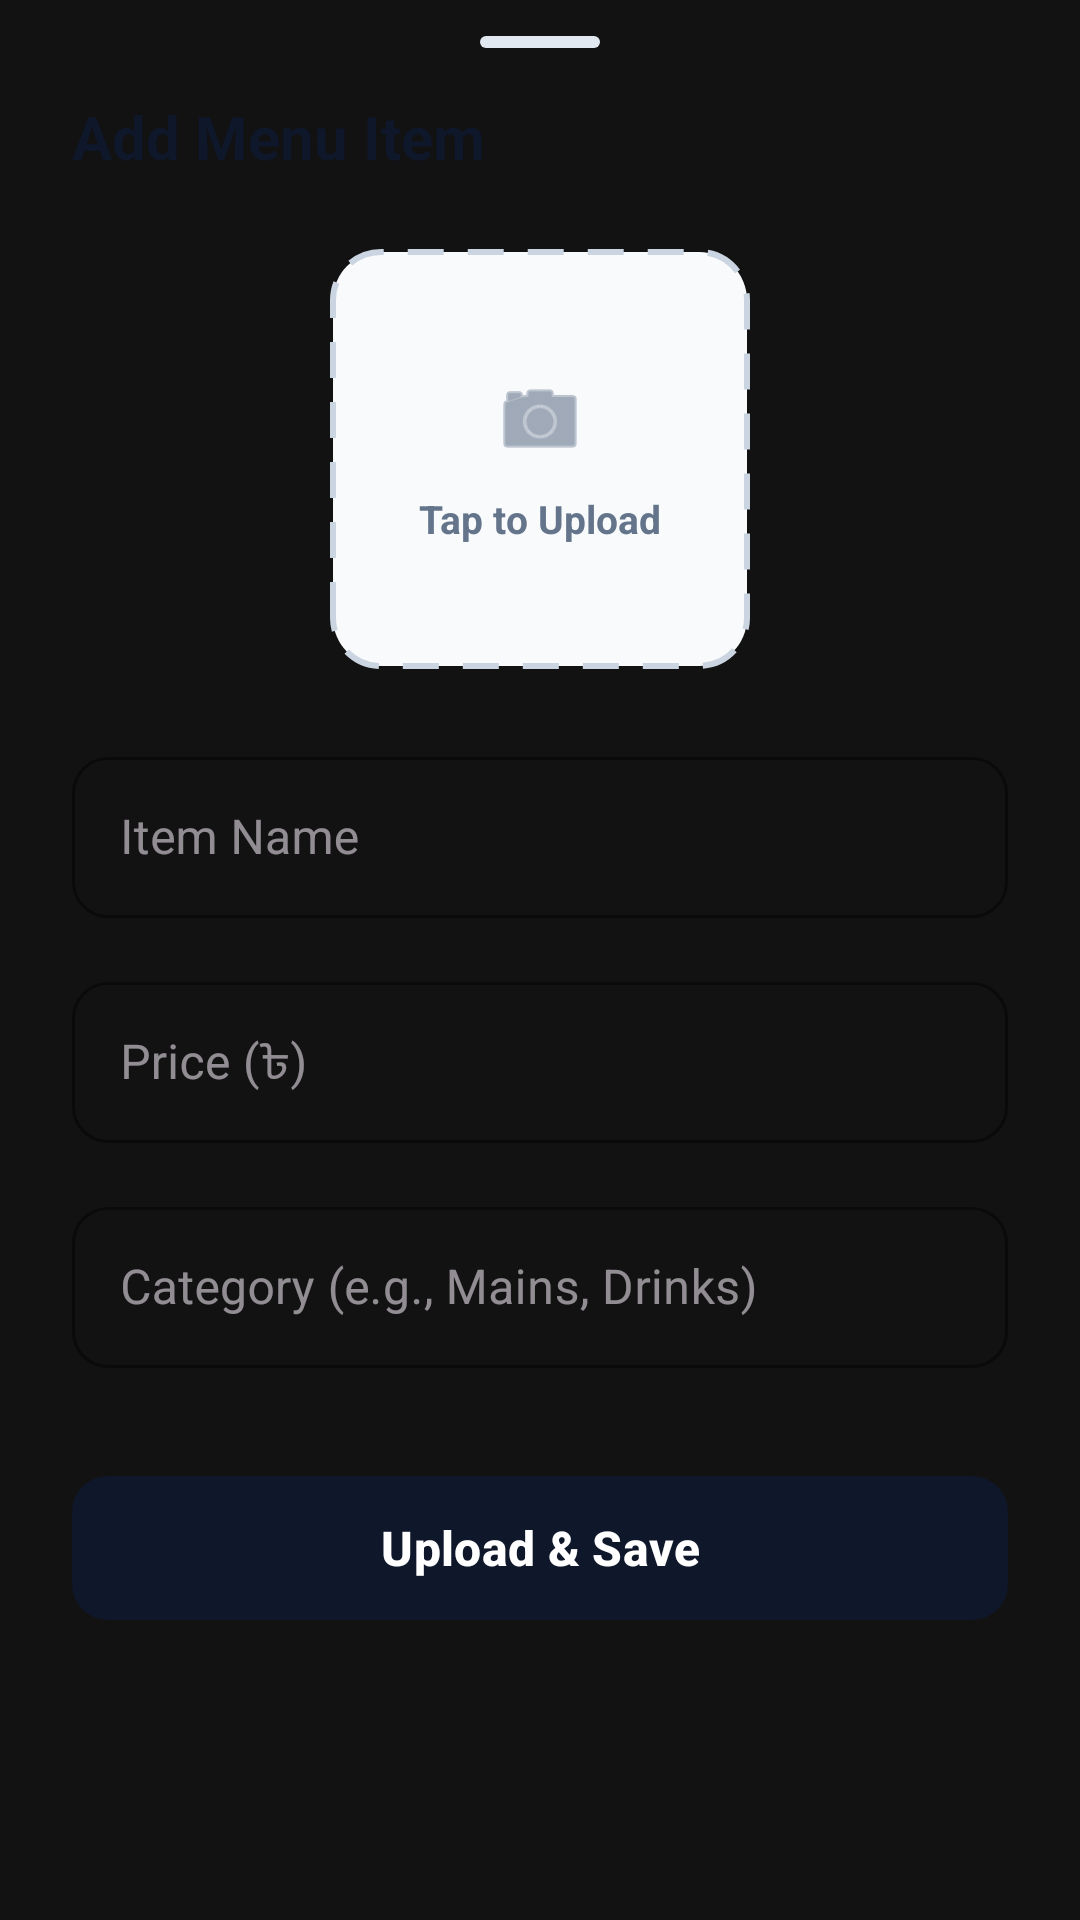

Icon click points for this 1080w x 1920h phone screenshot, format point (x, y):
camera: point (540, 418)
